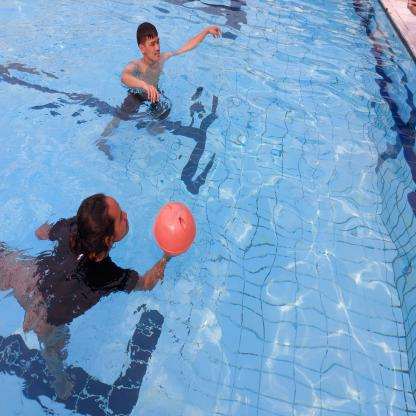red_buoy: (152, 199, 198, 259)
